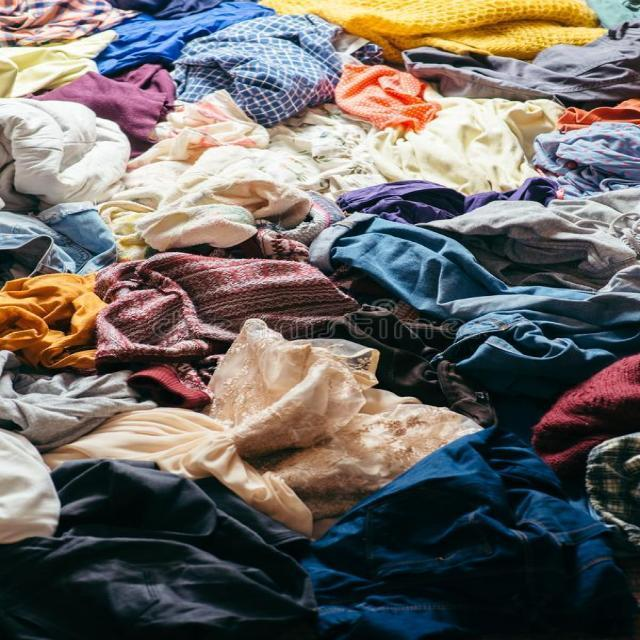clothes: (66, 318, 464, 526), (298, 419, 640, 640), (285, 210, 640, 390), (0, 446, 314, 636), (82, 242, 380, 361), (0, 356, 213, 466), (0, 90, 144, 240), (336, 0, 620, 75), (176, 12, 354, 130), (372, 94, 568, 188), (519, 125, 640, 198)
